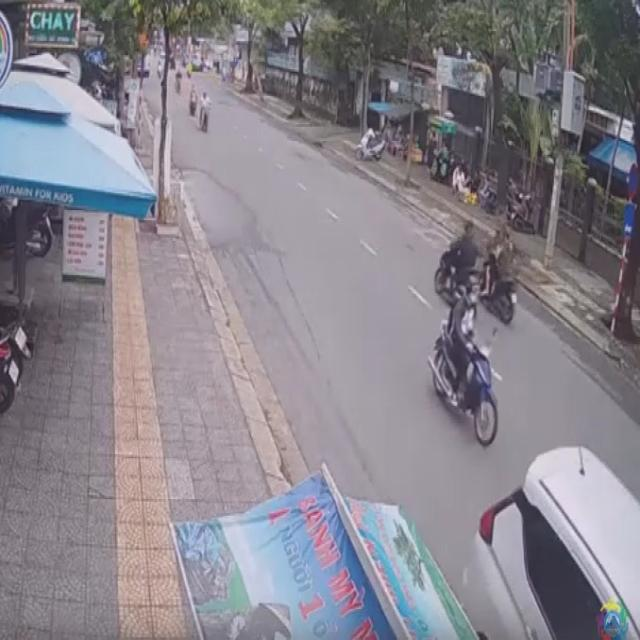motorbike: (430, 282, 503, 448), (434, 221, 480, 318), (482, 225, 520, 325)
